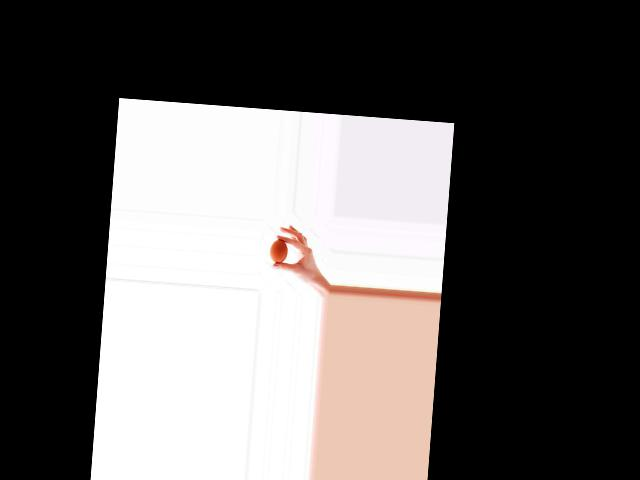egg: (268, 238, 287, 263)
